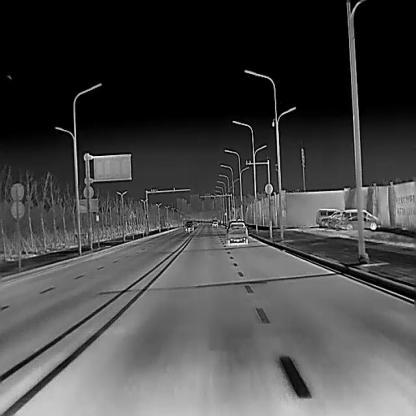car: (340, 209, 380, 227), (226, 220, 249, 244), (343, 216, 377, 231), (315, 207, 340, 225), (185, 221, 193, 231), (212, 220, 219, 228)
